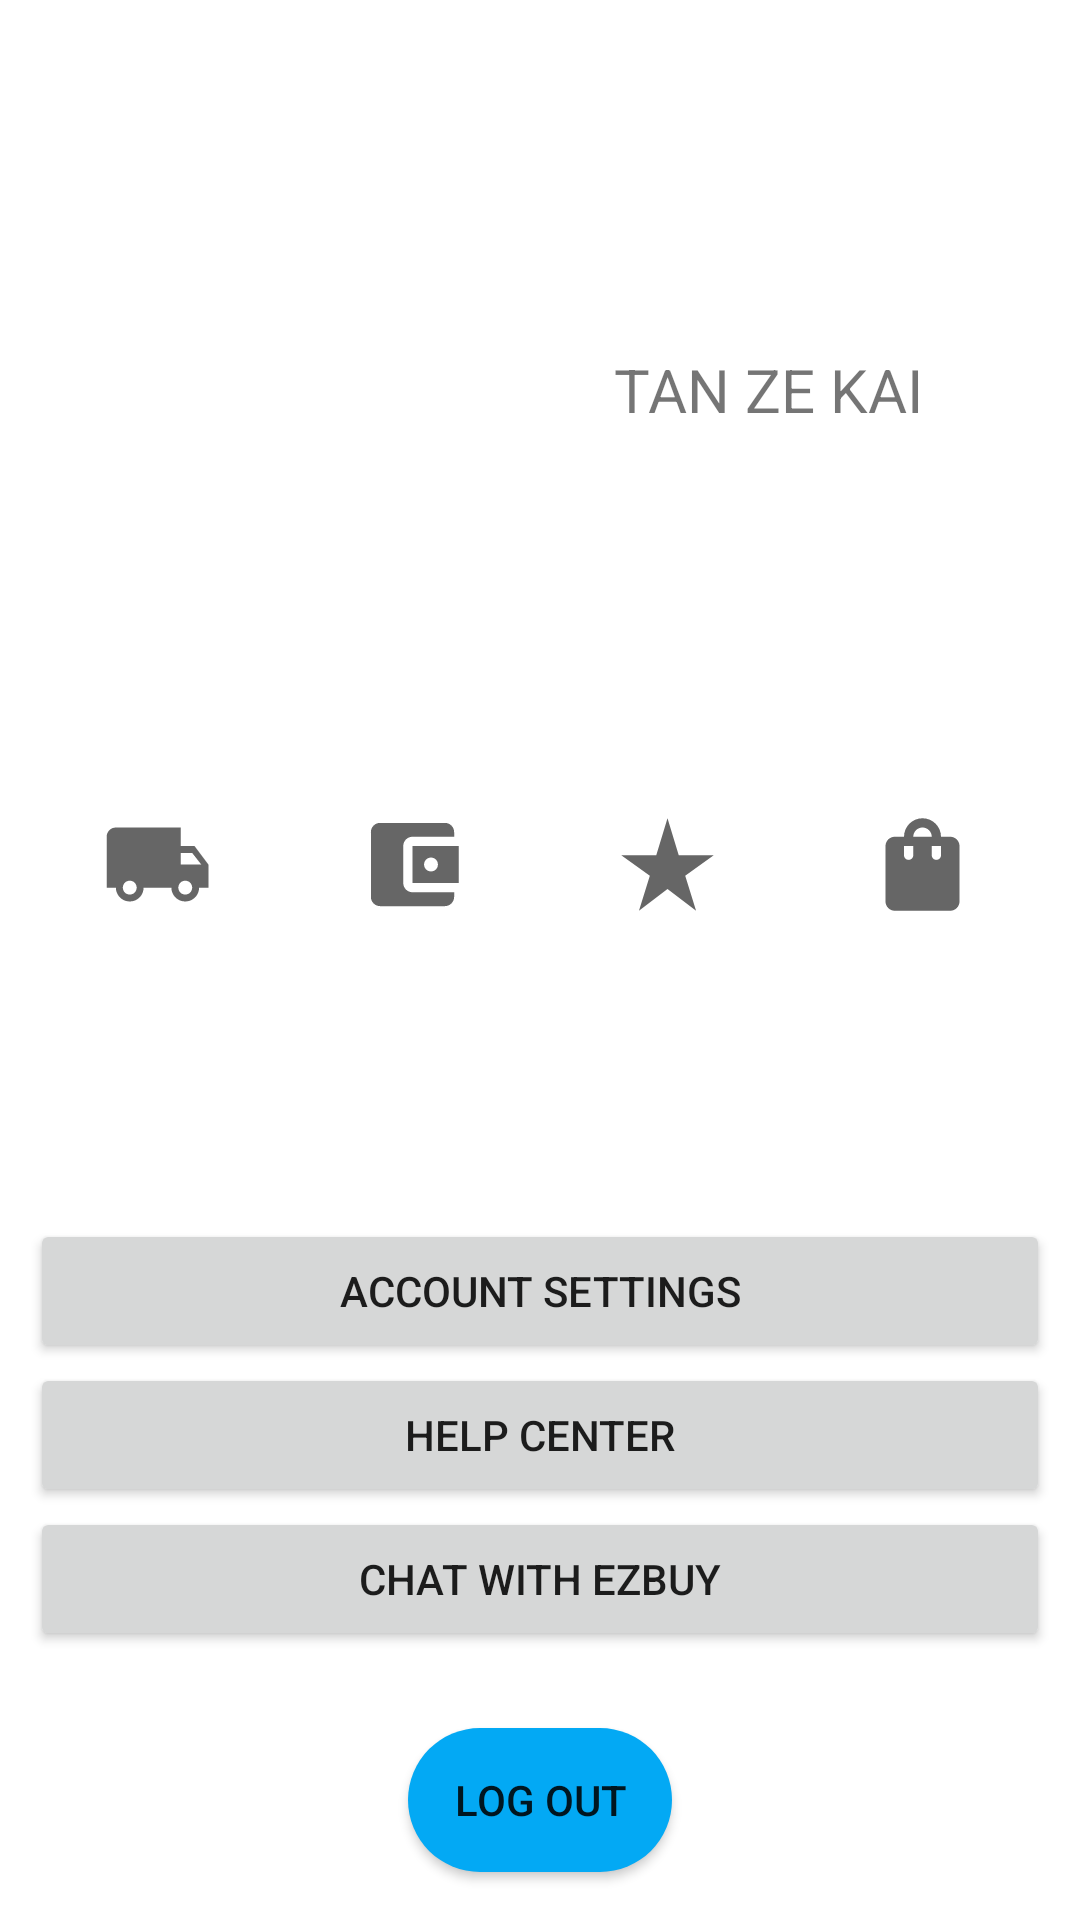

Where to tap for icons on this 1080 x 1920 app screen, as (x,y):
account balance wallet: (415,865)
star rate: (667,864)
